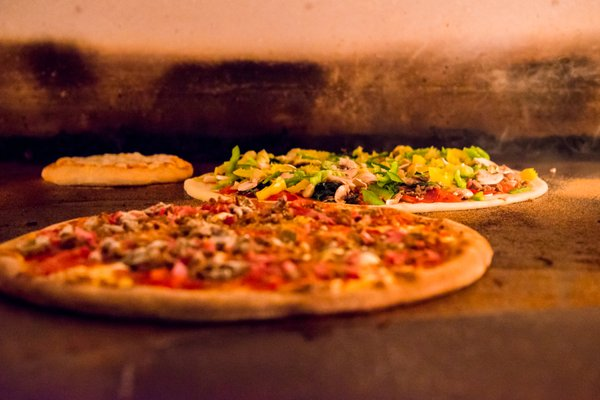sandwich: (2, 142, 532, 316), (2, 189, 502, 316), (42, 152, 193, 186)
